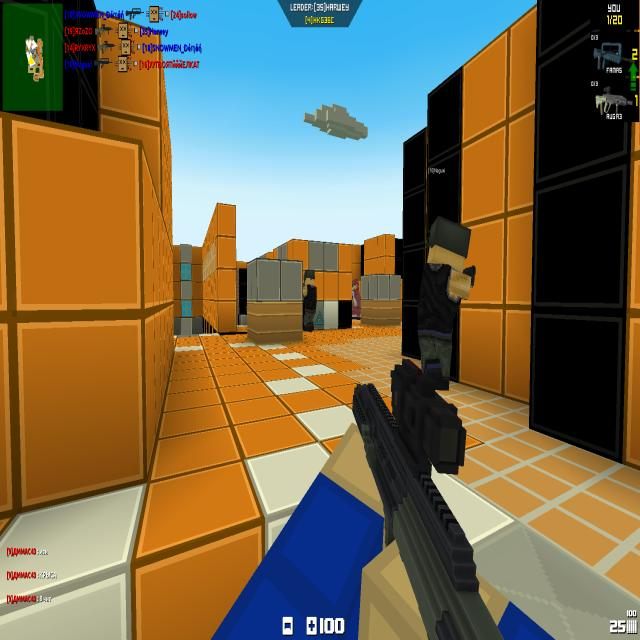enemy: (303, 268, 317, 332), (352, 278, 361, 320)
